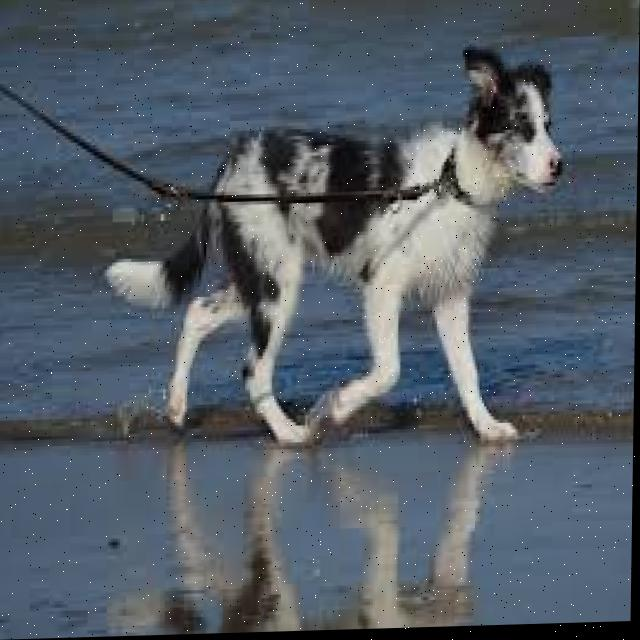ALASKAN_MALAMUTE: (98, 31, 582, 488)
